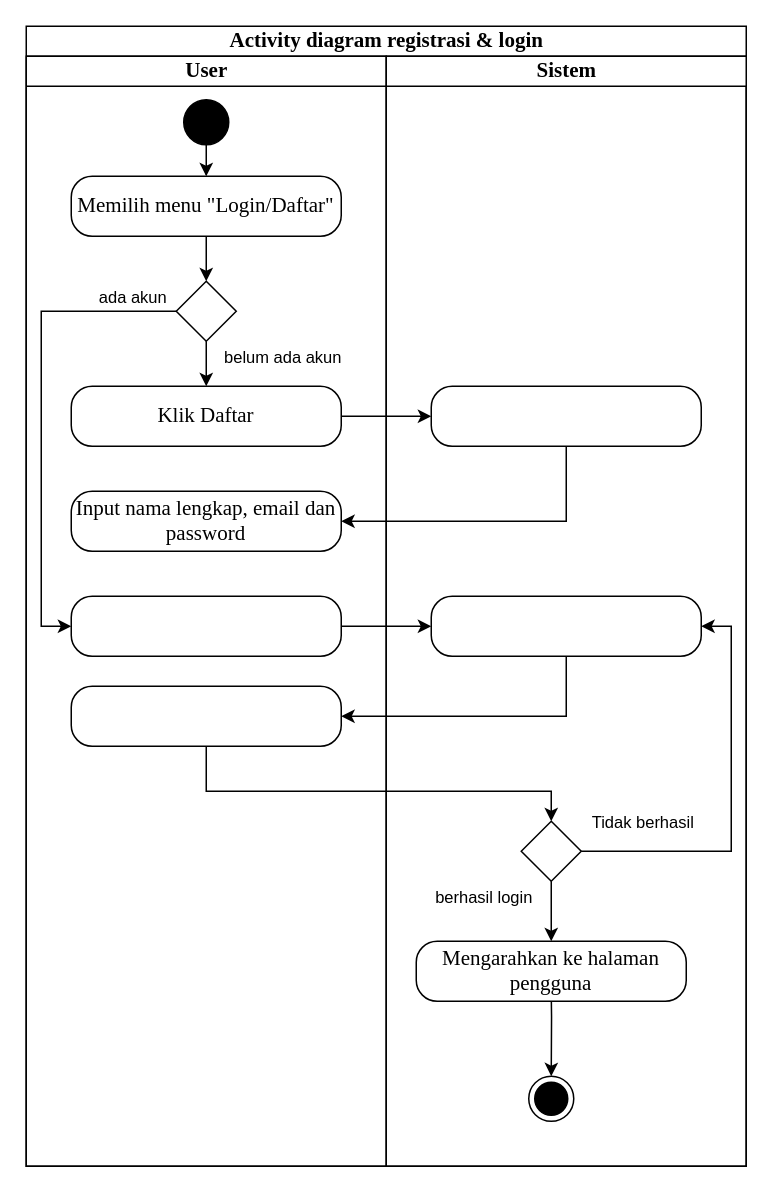
Some shapes in this 773 by 1193 pixel diagram are drawn without their labels. Each missing label, with the box of its shape:
Input email & password: (70, 685, 341, 746)
Klik login: (70, 595, 341, 656)
Menampilkan form login: (430, 595, 701, 656)
Menampilkan halaman form registrasi: (430, 385, 701, 446)
